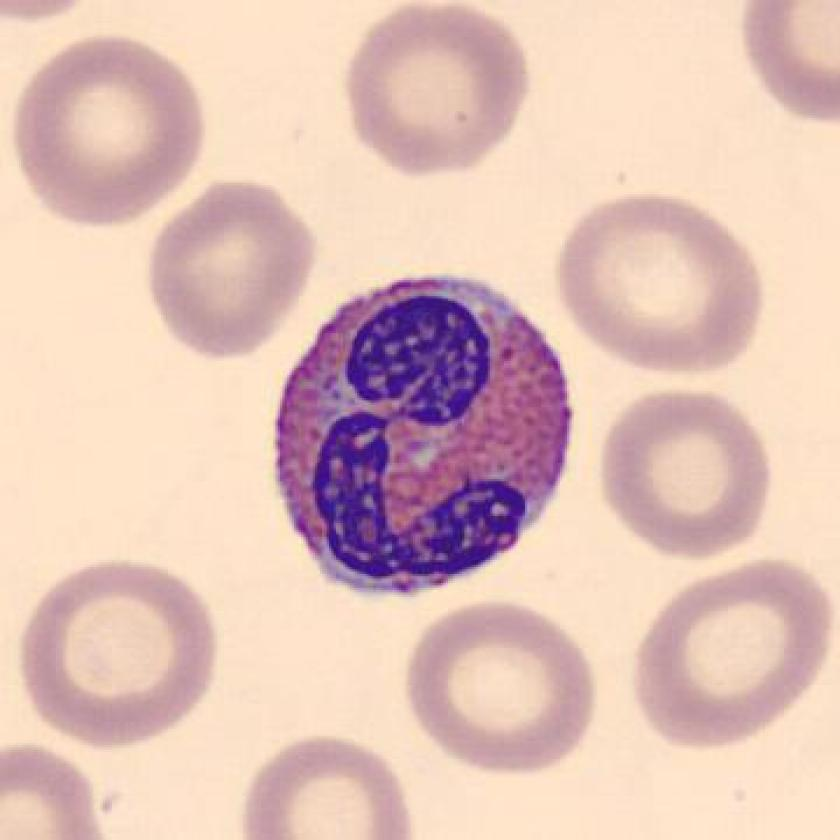eosinophil: (258, 263, 587, 617)
